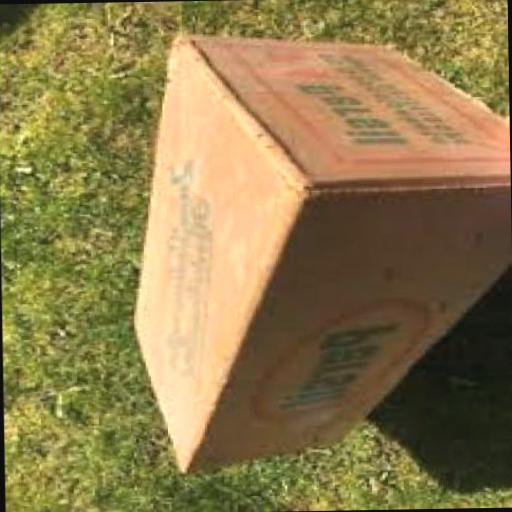cardboard: (125, 27, 512, 472)
